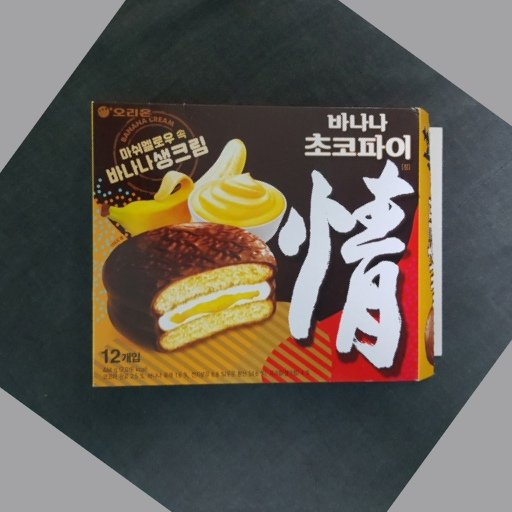Paper_0: (80, 96, 451, 390)
